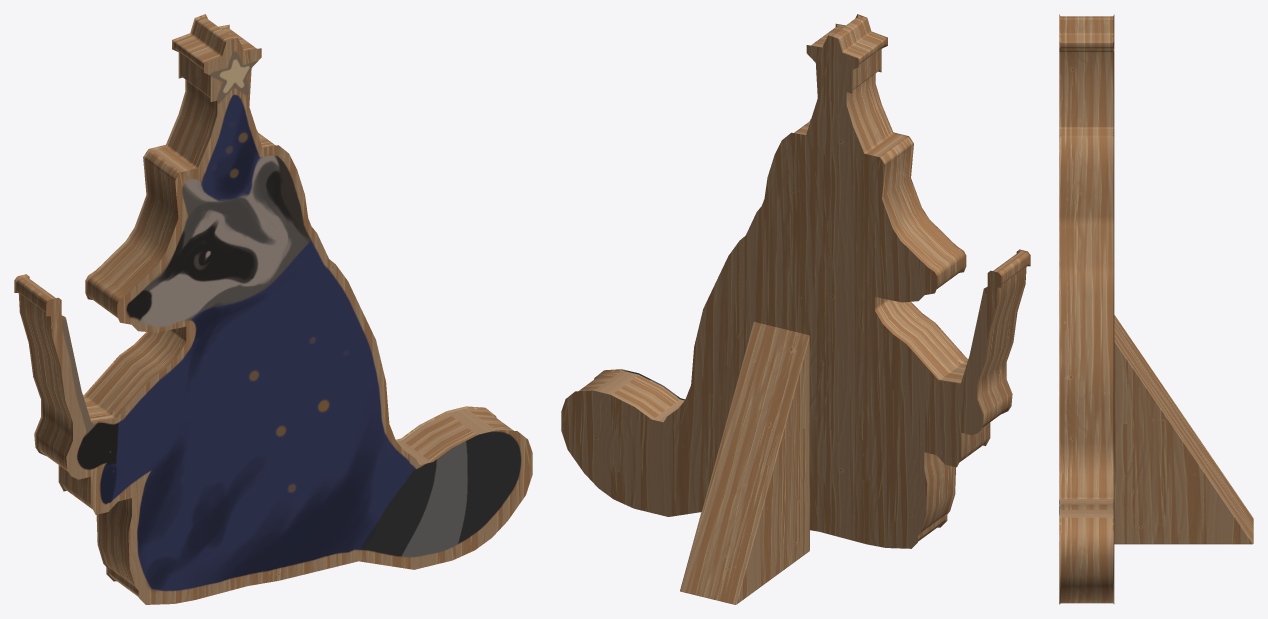
The model's file is frame_0.glb.
3 renders of one model, left to right at view 1: azimuth 30°, elevation 25°; view 2: azimuth 150°, elevation 25°; view 3: azimuth 270°, elevation 25°, orthographic. The views are drawn at different scales.
Parts seen in each view (by area): view 1: frame_0_Block; view 2: frame_0_Block, frame_0_RearBrace; view 3: frame_0_Block, frame_0_RearBrace.
Boxes of the visible parts, left/top/right/bottom form: frame_0_Block: left=14, top=14, right=532, bottom=604; frame_0_Block: left=561, top=14, right=1030, bottom=548; frame_0_RearBrace: left=680, top=322, right=809, bottom=604; frame_0_Block: left=1059, top=14, right=1114, bottom=604; frame_0_RearBrace: left=1114, top=315, right=1253, bottom=544.
Size of the model in its own units: 1.75 by 1.98 by 0.7071.
1 material, 1 textured.
